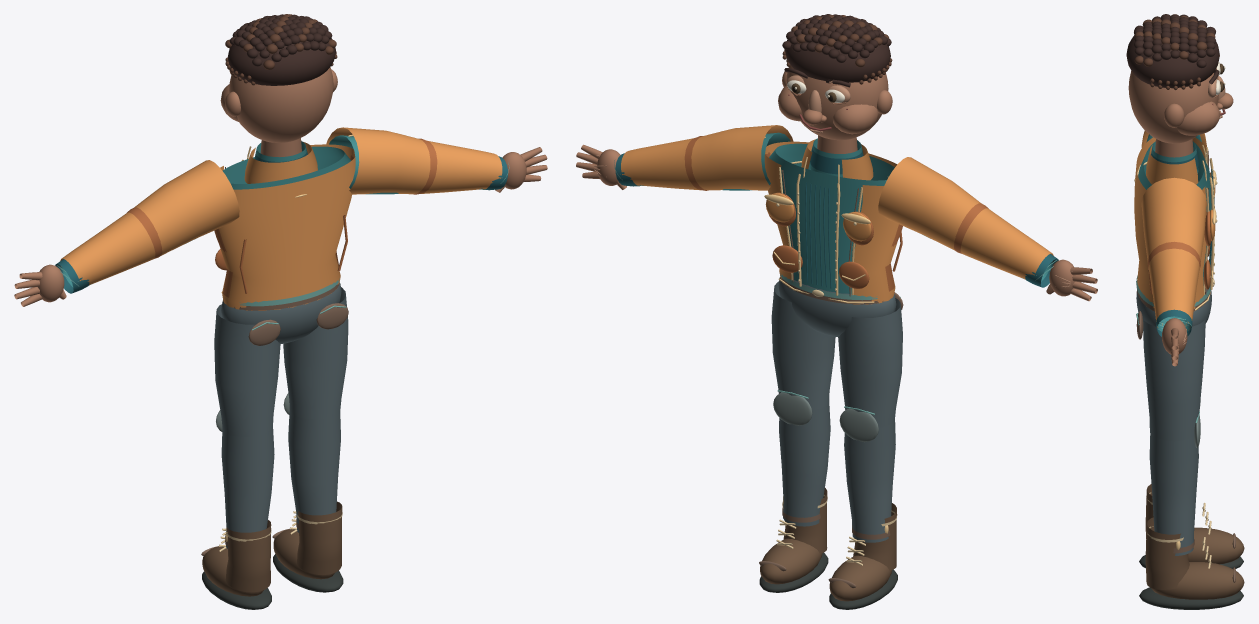
3 renders of one model, left to right at view 1: azimuth 30°, elevation 25°; view 2: azimuth 150°, elevation 25°; view 3: azimuth 270°, elevation 25°, orthographic. The views are drawn at different scales.
Parts seen in each view (by area): view 1: Shell | ochre weather cloth, Trousers | storm slate, Skin | warm umber, Boots | dark peat leather, Hair | espresso, Sweater | sea-glass knit, Boots | rubber sole, Shell | muted lining, Shell | shaded panels, Hair | curl sheen, Sweater | rib shadow, Field accents | faded teal; view 2: Trousers | storm slate, Shell | ochre weather cloth, Sweater | sea-glass knit, Skin | warm umber, Boots | dark peat leather, Hair | espresso, Shell | shaded panels, Sweater | rib shadow, Trousers | knee reinforcement, Shell | pale seam tape, Boots | rubber sole, Shell | muted lining (+3 smaller); view 3: Trousers | storm slate, Shell | ochre weather cloth, Skin | warm umber, Boots | dark peat leather, Hair | espresso, Boots | rubber sole, Sweater | sea-glass knit, Hair | curl sheen, Shell | shaded panels, Shell | pale seam tape, Sweater | rib shadow, Shell | muted lining (+3 smaller).
Part boxes in pixels (x1,y1,x2,y2): Shell | ochre weather cloth: (60,127,502,310); Trousers | storm slate: (214,282,348,548); Skin | warm umber: (14,67,547,306); Boots | dark peat leather: (202,501,342,596); Hair | espresso: (227,14,335,85); Sweater | sea-glass knit: (61,135,482,286); Boots | rubber sole: (202,554,343,609); Shell | muted lining: (201,167,348,555); Shell | shaded panels: (127,138,437,297); Hair | curl sheen: (225,14,337,85); Sweater | rib shadow: (55,149,507,293); Field accents | faded teal: (56,163,509,330); Trousers | storm slate: (771,277,902,542); Shell | ochre weather cloth: (621,125,1053,304); Sweater | sea-glass knit: (640,132,1052,294); Skin | warm umber: (576,65,1097,301); Boots | dark peat leather: (760,488,896,601); Hair | espresso: (782,14,891,87); Shell | shaded panels: (684,136,988,291); Sweater | rib shadow: (615,147,1058,288); Trousers | knee reinforcement: (773,392,878,442); Shell | pale seam tape: (764,136,888,533); Boots | rubber sole: (759,552,897,609); Shell | muted lining: (759,170,903,588); Trousers | storm slate: (1136,289,1211,555); Shell | ochre weather cloth: (1134,130,1215,330); Skin | warm umber: (1128,68,1233,366); Boots | dark peat leather: (1145,484,1244,599); Hair | espresso: (1126,14,1219,88); Boots | rubber sole: (1139,555,1243,609); Sweater | sea-glass knit: (1138,134,1211,331); Hair | curl sheen: (1134,14,1215,90); Shell | shaded panels: (1147,211,1211,294); Shell | pale seam tape: (1134,144,1216,549); Sweater | rib shadow: (1151,150,1214,336); Shell | muted lining: (1136,151,1235,582).
Bounding box in the file's own units: 1.64 × 1.69 × 0.321.
